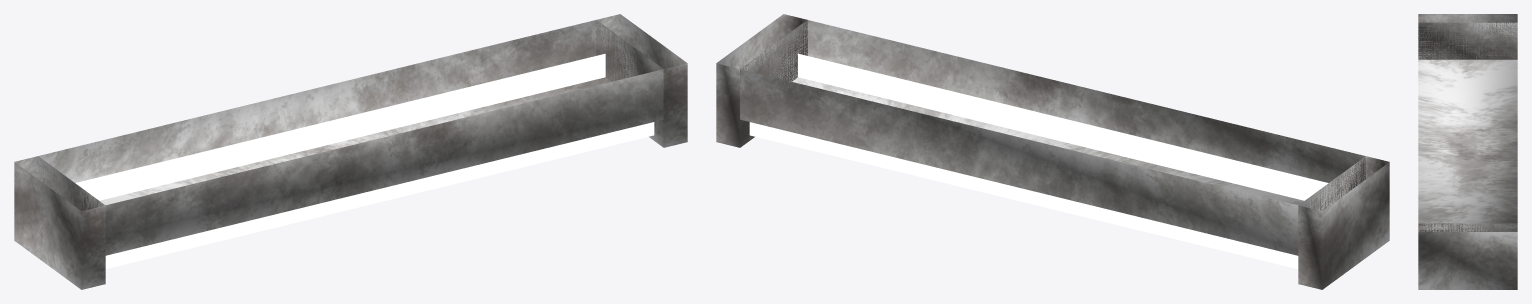
Rendered from fluorescent_light_horror.glb.
3 renders of one model, left to right at view 1: azimuth 30°, elevation 25°; view 2: azimuth 150°, elevation 25°; view 3: azimuth 270°, elevation 25°, orthographic. The views are drawn at different scales.
Parts seen in each view (by area): view 1: g (×4); view 2: g (×4); view 3: g (×3).
Boxes of the visible parts, box(x1,y1,x2,y2) form: g (×4): box(14, 14, 687, 289); g (×4): box(716, 14, 1389, 289); g (×3): box(1418, 14, 1517, 289).
Bounding box in the file's own units: 2 × 0.2482 × 0.3854.
Materials: 1 (1 with a texture image).
